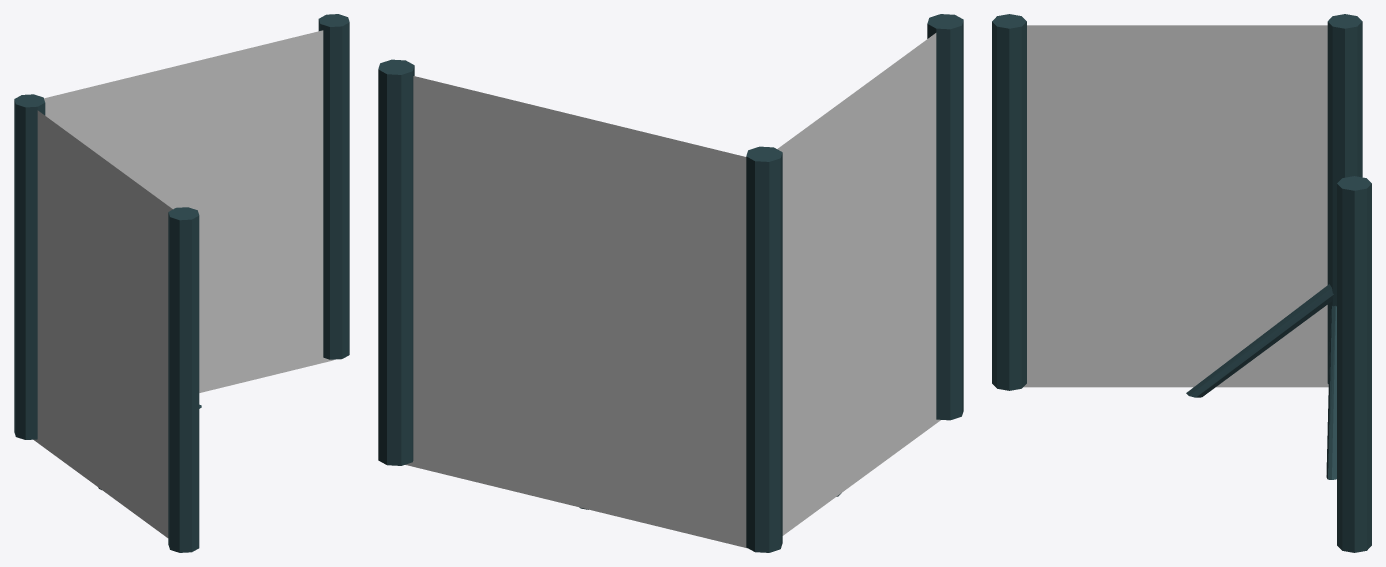
The model's file is plot_3_bok.fbx.
The picture shows the model from 3 angles, left to right: view 1: azimuth 30°, elevation 25°; view 2: azimuth 150°, elevation 25°; view 3: azimuth 270°, elevation 25°; orthographic projection. The views are drawn at different scales.
Parts seen in each view (by area): view 1: Plane.002, Cylinder.002; view 2: Plane.002, Cylinder.002; view 3: Plane.002, Cylinder.002.
Part boxes in pixels (x1,y1,x2,y2): Plane.002: (33,30,333,537); Cylinder.002: (14,14,349,552); Plane.002: (405,33,940,548); Cylinder.002: (378,14,963,552); Plane.002: (1023,25,1328,387); Cylinder.002: (992,14,1371,552).
Size of the model in its own units: 190 by 207 by 212.
